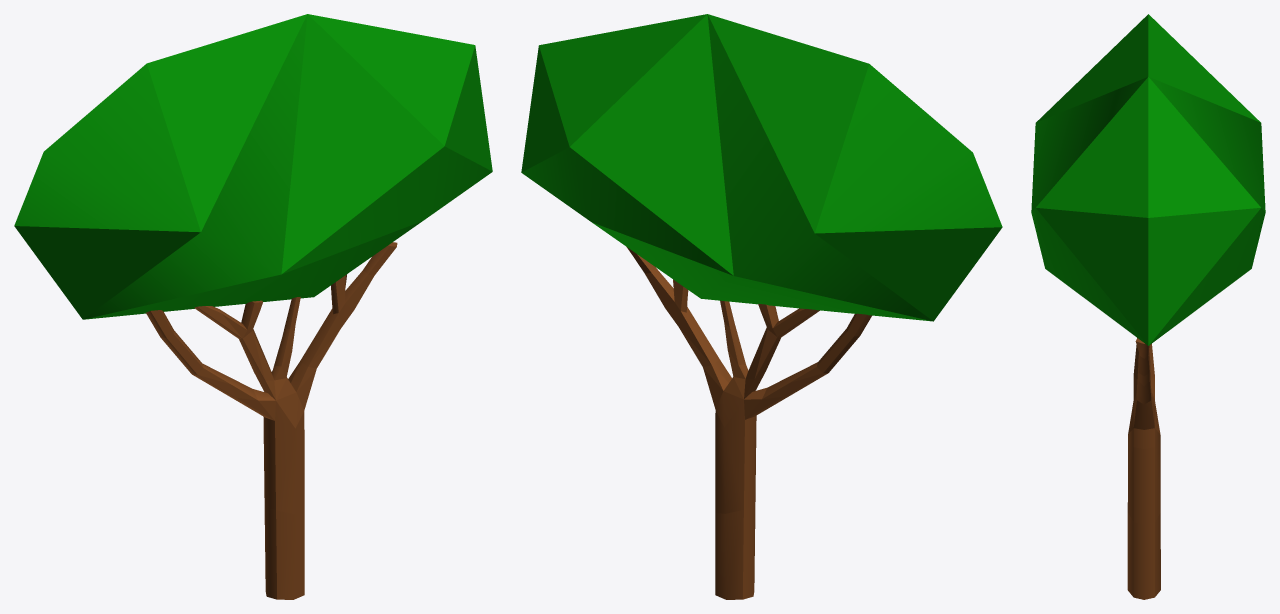
Rendered from Arbol.glb.
3 renders of one model, left to right at view 1: azimuth 30°, elevation 25°; view 2: azimuth 150°, elevation 25°; view 3: azimuth 270°, elevation 25°, orthographic. The views are drawn at different scales.
Visible parts, largest first — view 1: Tree; view 2: Tree; view 3: Tree.
Boxes of the visible parts, bbox=[...] form: Tree: bbox=[14, 14, 492, 599]; Tree: bbox=[521, 14, 1002, 599]; Tree: bbox=[1031, 14, 1265, 599].
Size of the model in its own units: 2.07 by 2.37 by 0.9565.
